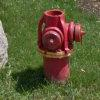Hydrant: (31, 3, 85, 84)
